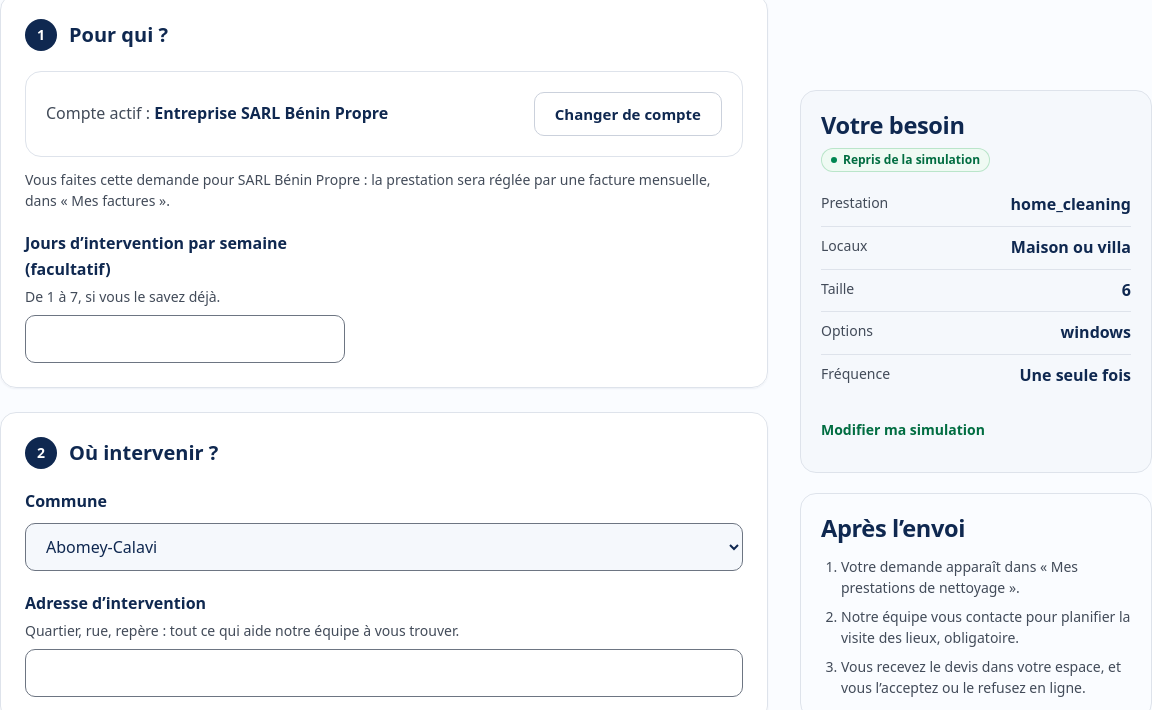
demande de devis › compte entreprise suspendu par KSP : la demande est refusée avec un message clair
Expected: the text "Entreprise SARL Bénin Propre" is shown, [154,102,388,124]
Type "Lot 12, Zogbadjè" into the field labelled "Adresse d’intervention" at (384, 673), box [25,649,743,697]
(page scrolled)
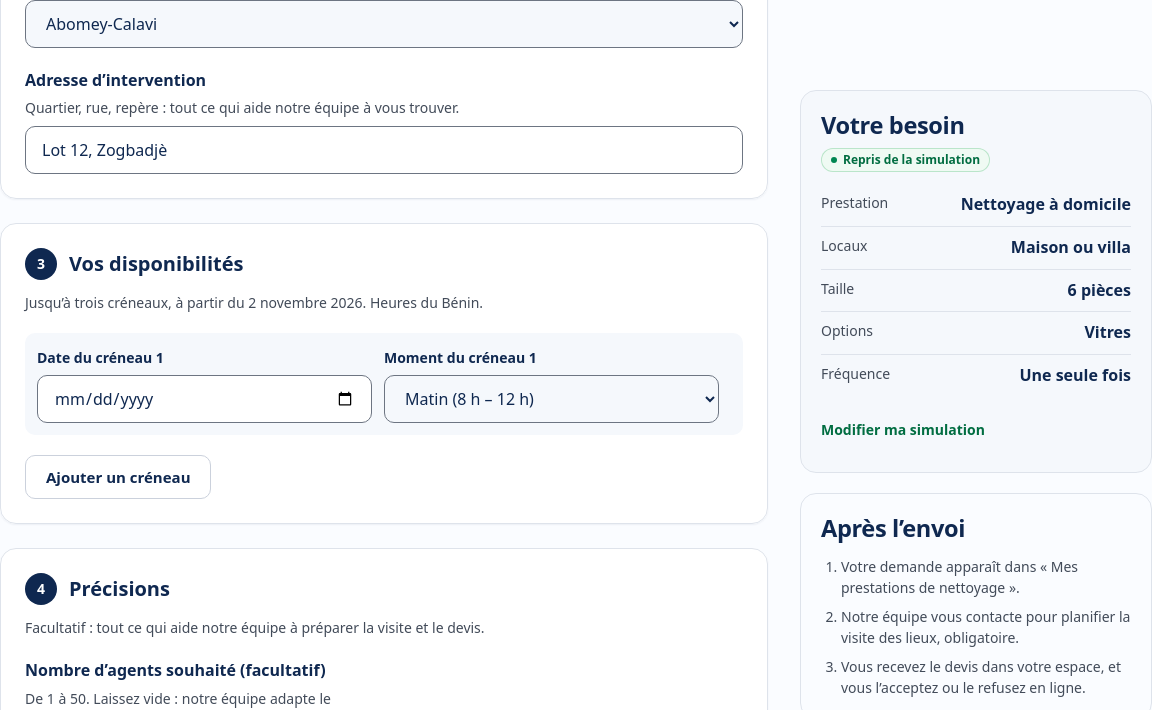
Type "2099-11-05" into the date field labelled "Date du créneau 1" at (204, 399), box [37,375,372,423]
(page scrolled)
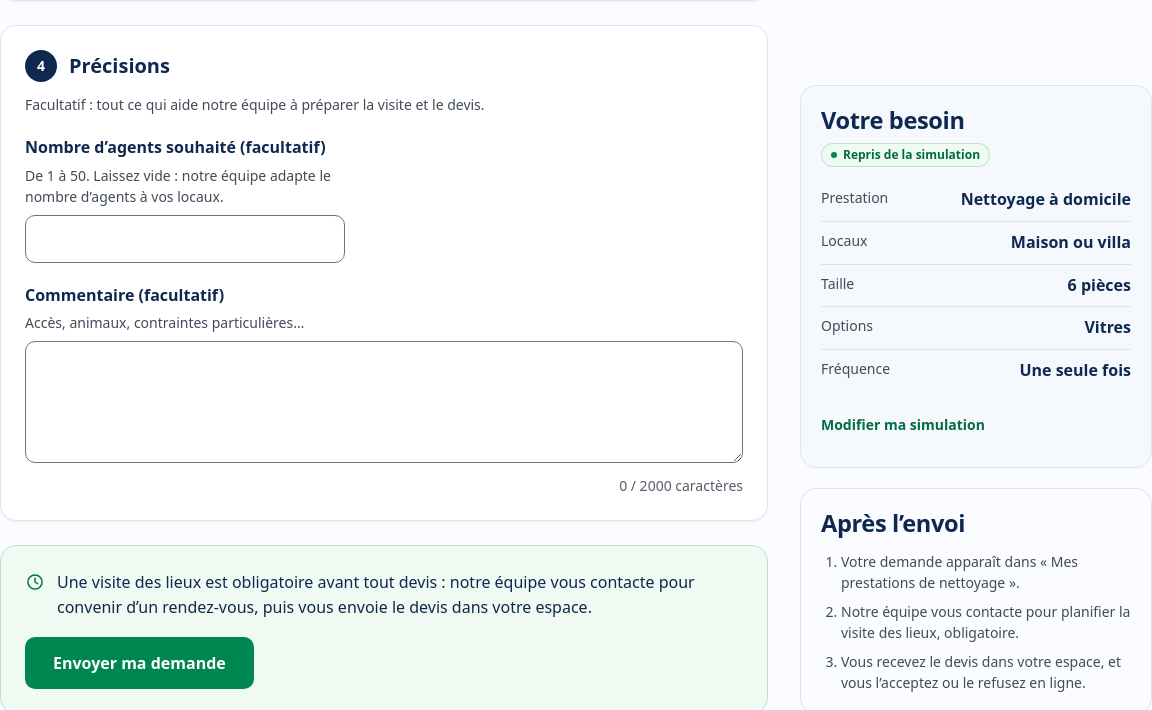
Click the button "Envoyer ma demande" at (139, 663), box [25,637,254,689]
(page scrolled)
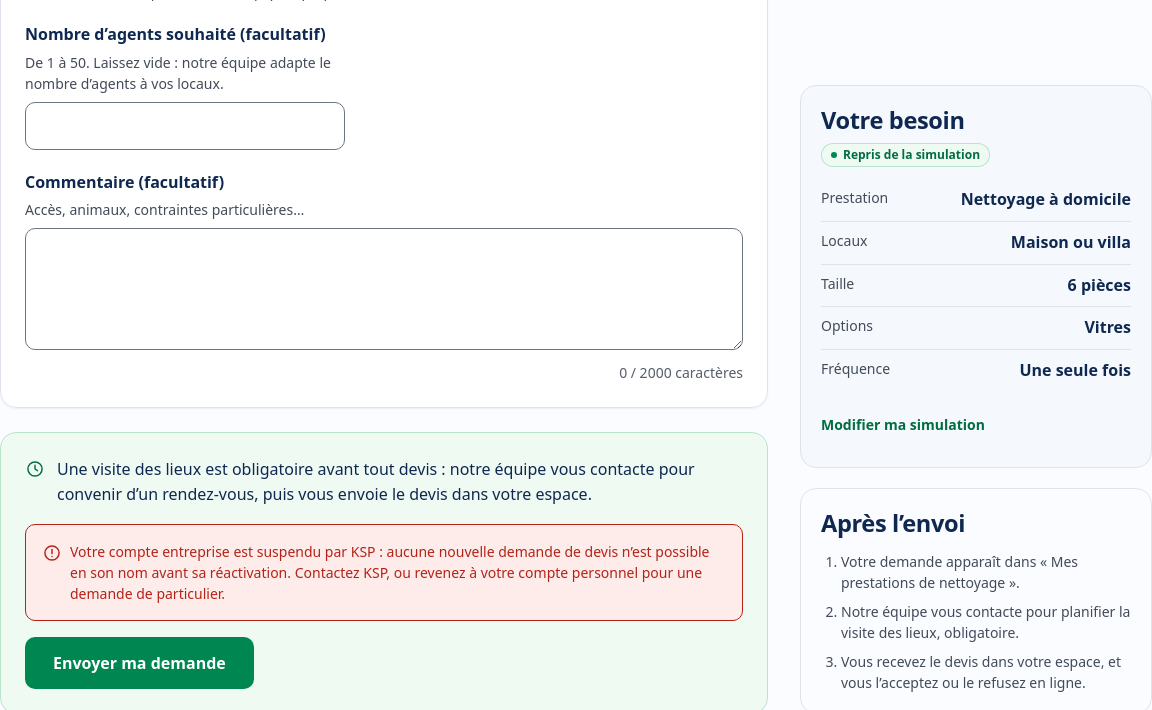
Result: the message shows "Votre compte entreprise est suspendu par KSP : aucune nouvelle demande de devis n’est possible en son nom avant sa réactivation." at [70,542,710,603]
